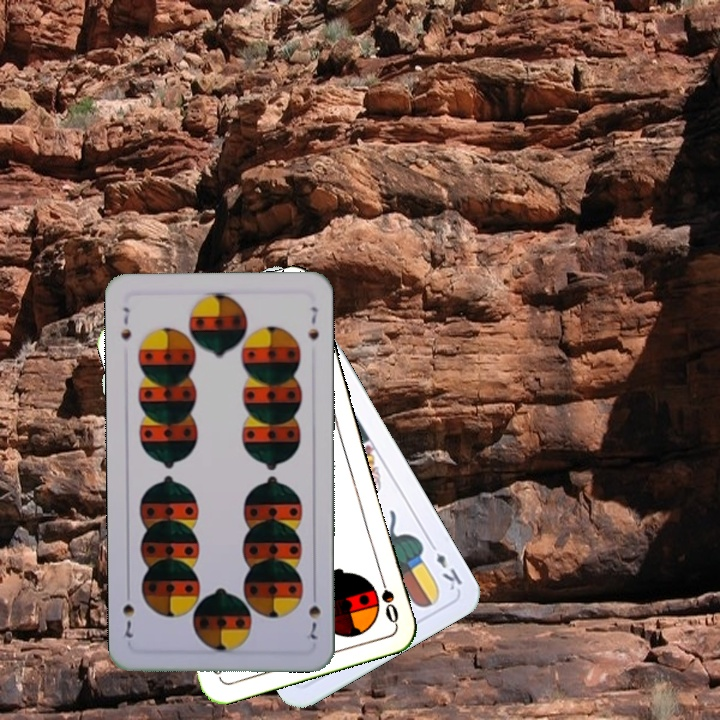EK: (425, 537, 465, 593)
S7: (304, 586, 323, 642), (117, 303, 134, 344)
SO: (375, 568, 401, 626)
